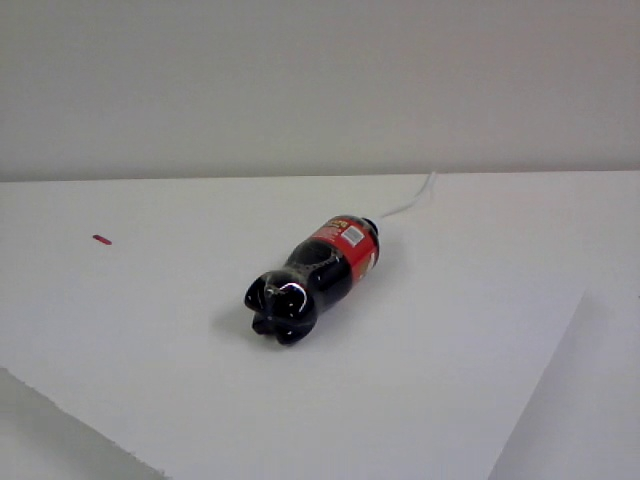botolplastik: (243, 213, 381, 345)
